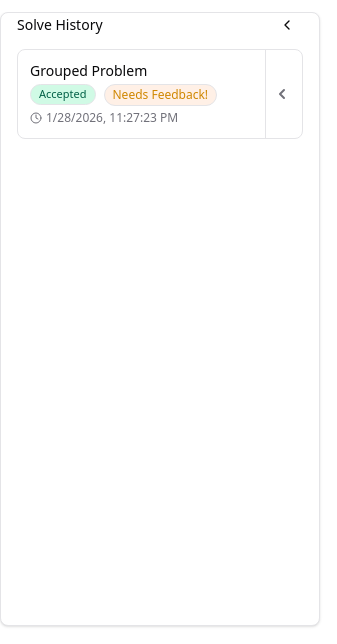
Test case: <SolveSidebar> › renders grouped solves and handles expansion
Expected: the number of headings "Grouped Problem" is 1, [30,61,147,80]
Expected: the text "Accepted" is shown, [30,84,96,105]
Step 1. Click the 3rd button → (282, 94), box [270,82,294,106]
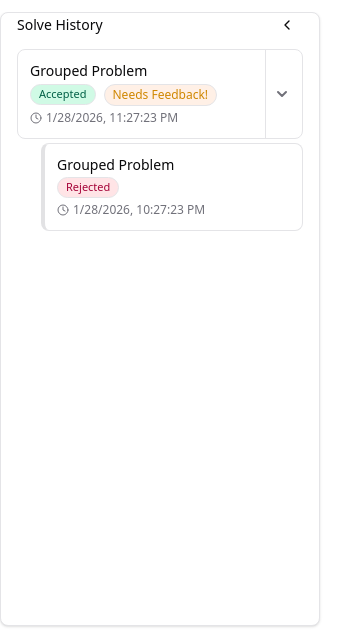
Now the text "Rejected" is shown, box [57,177,119,198]
